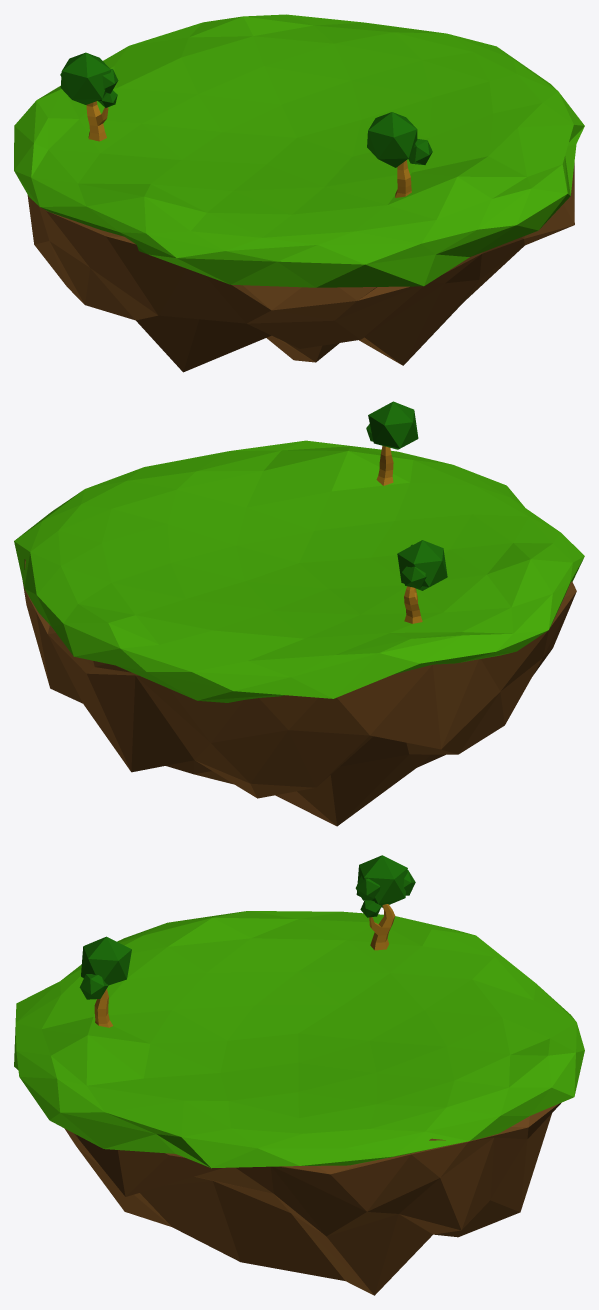
File: island.fbx
3 renders of one model, top to bottom at view 1: azimuth 30°, elevation 25°; view 2: azimuth 150°, elevation 25°; view 3: azimuth 270°, elevation 25°, orthographic. The views are drawn at different scales.
Parts seen in each view (by area): view 1: island, agac_1, agac_2; view 2: island, agac_1, agac_2; view 3: island, agac_1, agac_2.
Boxes of the visible parts, <box> form: island: <box>14,14,584,372</box>; agac_1: <box>60,52,118,141</box>; agac_2: <box>367,112,432,197</box>; island: <box>14,440,584,826</box>; agac_1: <box>397,540,447,623</box>; agac_2: <box>366,401,418,485</box>; island: <box>14,911,584,1295</box>; agac_1: <box>355,855,415,950</box>; agac_2: <box>79,936,131,1027</box>.
Size of the model in its own units: 52.96 by 32.19 by 51.25.
